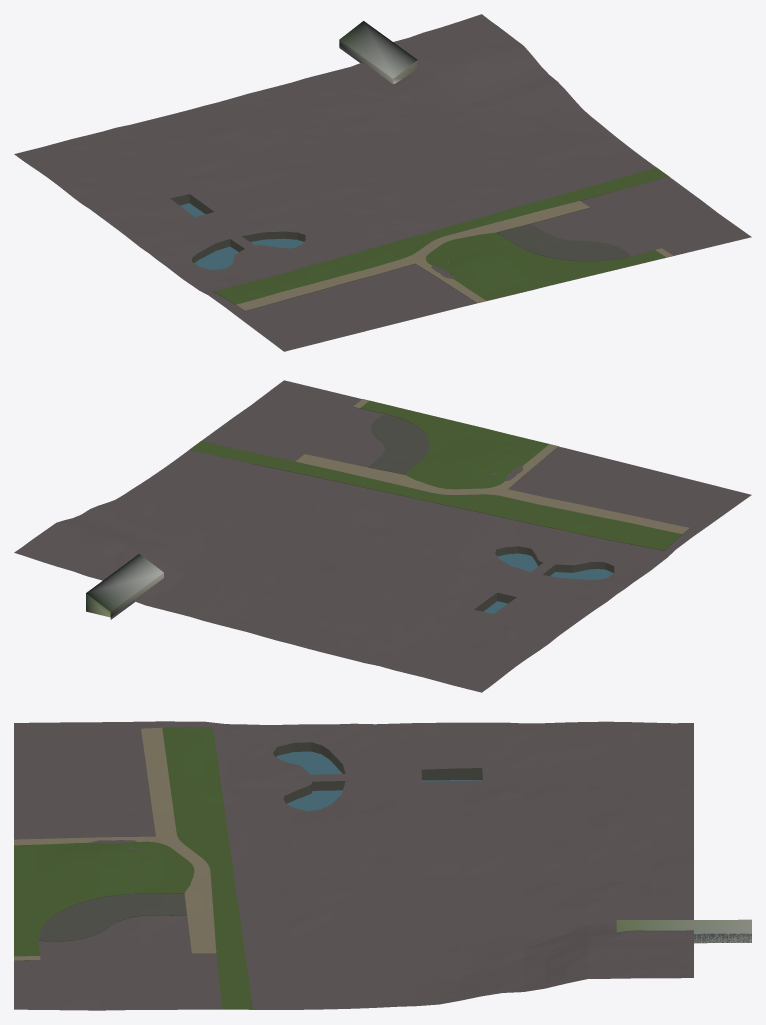
The picture shows the model from 3 angles, top to bottom: view 1: azimuth 30°, elevation 25°; view 2: azimuth 150°, elevation 25°; view 3: azimuth 270°, elevation 25°; orthographic projection. The views are drawn at different scales.
Visible parts, largest first — view 1: c_m03_m05; view 2: c_m03_m05; view 3: c_m03_m05.
Boxes of the visible parts, x1,y1,x2,y2 form: c_m03_m05: (14, 14, 751, 351); c_m03_m05: (14, 380, 751, 692); c_m03_m05: (14, 721, 751, 1010).
Size of the model in its own units: 128 by 9.37 by 139.
